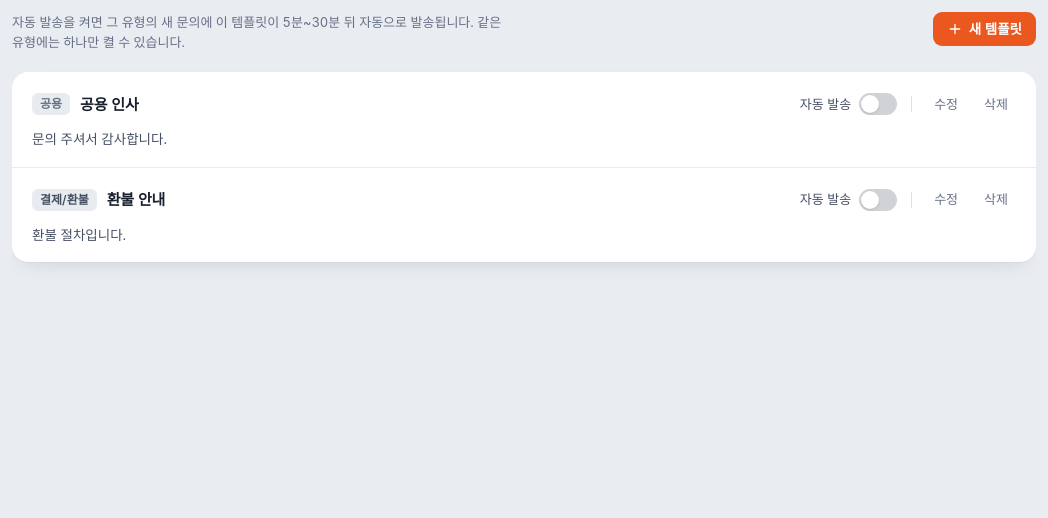
Test case: TemplateManager › cancels an edit without saving
Step 1. Click the button "수정" in the row of "환불 안내" → point(946, 200), box 926,184 -> 966,216
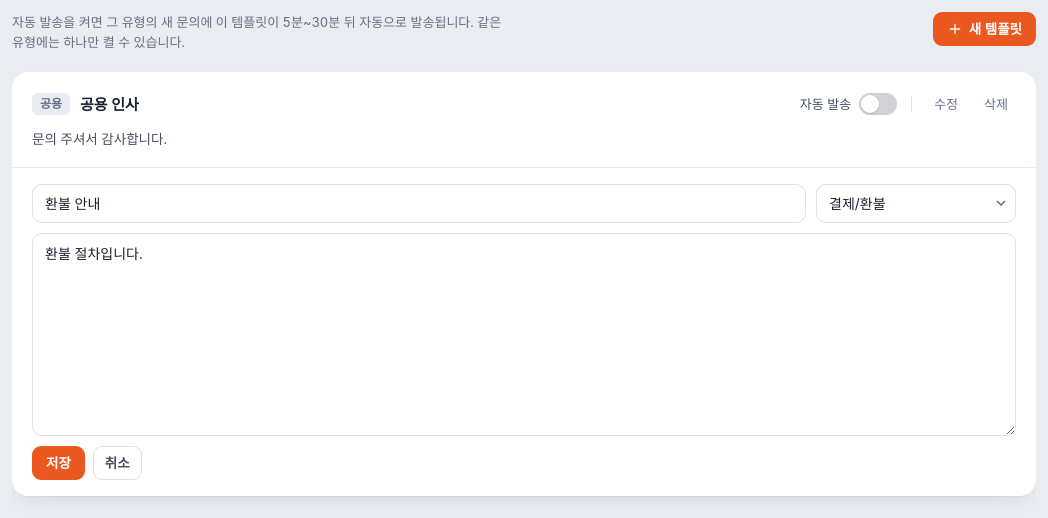
Step 2. Type " 변경" into the field named "템플릿 제목" → point(419, 203), box 32,184 -> 806,223
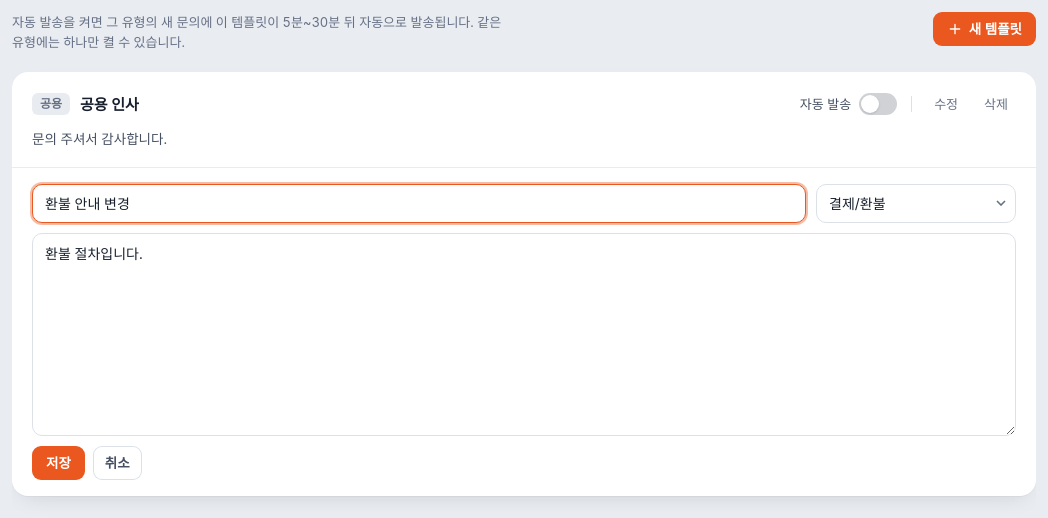
Step 3. Click the button "취소" → point(117, 463), box 93,446 -> 142,480
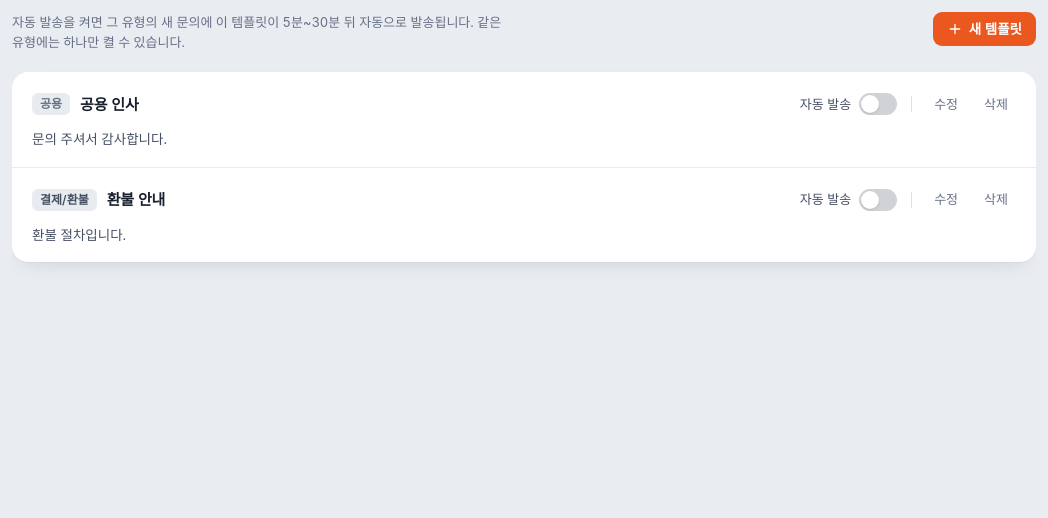
Check: the text "환불 안내" is shown, box 107,190 -> 165,209
